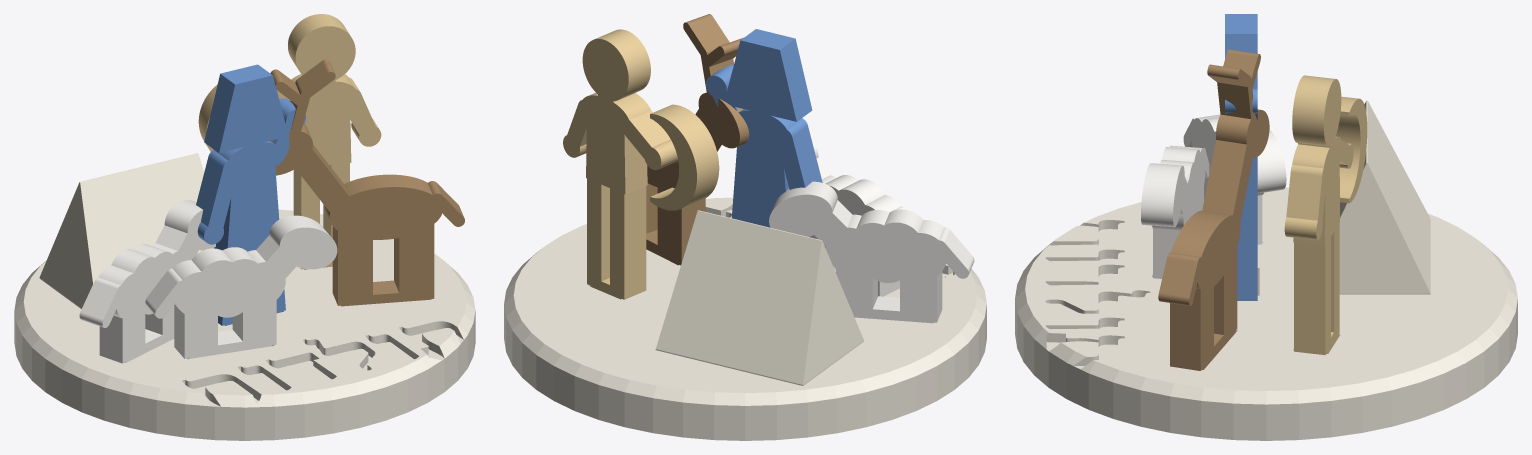
Rendered from toldot.glb.
3 views of the same model, side by side, from view 1: azimuth 30°, elevation 25°; view 2: azimuth 150°, elevation 25°; view 3: azimuth 270°, elevation 25° (orthographic). The views are drawn at different scales.
Visible parts, largest first — view 1: stage, deer, sheep-2, yaakov, tent, sheep-1, esav; view 2: stage, tent, esav, sheep-1, yaakov, deer, sheep-2; view 3: stage, deer, esav, tent, sheep-2, yaakov, sheep-1.
Boxes of the visible parts, bbox=[...] form: stage: bbox=[14, 209, 475, 440]; deer: bbox=[270, 59, 464, 306]; sheep-2: bbox=[145, 215, 337, 358]; yaakov: bbox=[196, 64, 305, 325]; tent: bbox=[39, 153, 204, 308]; sheep-1: bbox=[79, 200, 215, 363]; esav: bbox=[198, 14, 381, 269]; stage: bbox=[504, 197, 986, 440]; tent: bbox=[655, 210, 863, 385]; esav: bbox=[563, 29, 719, 299]; sheep-1: bbox=[769, 181, 974, 323]; yaakov: bbox=[705, 29, 822, 227]; deer: bbox=[646, 14, 749, 265]; sheep-2: bbox=[809, 142, 905, 296]; stage: bbox=[1015, 187, 1517, 440]; deer: bbox=[1158, 49, 1269, 370]; esav: bbox=[1284, 75, 1367, 355]; tent: bbox=[1339, 100, 1430, 294]; sheep-2: bbox=[1141, 145, 1209, 278]; yaakov: bbox=[1225, 14, 1257, 300]; sheep-1: bbox=[1183, 114, 1286, 244].
Size of the model in its own units: 40 by 27 by 40.
